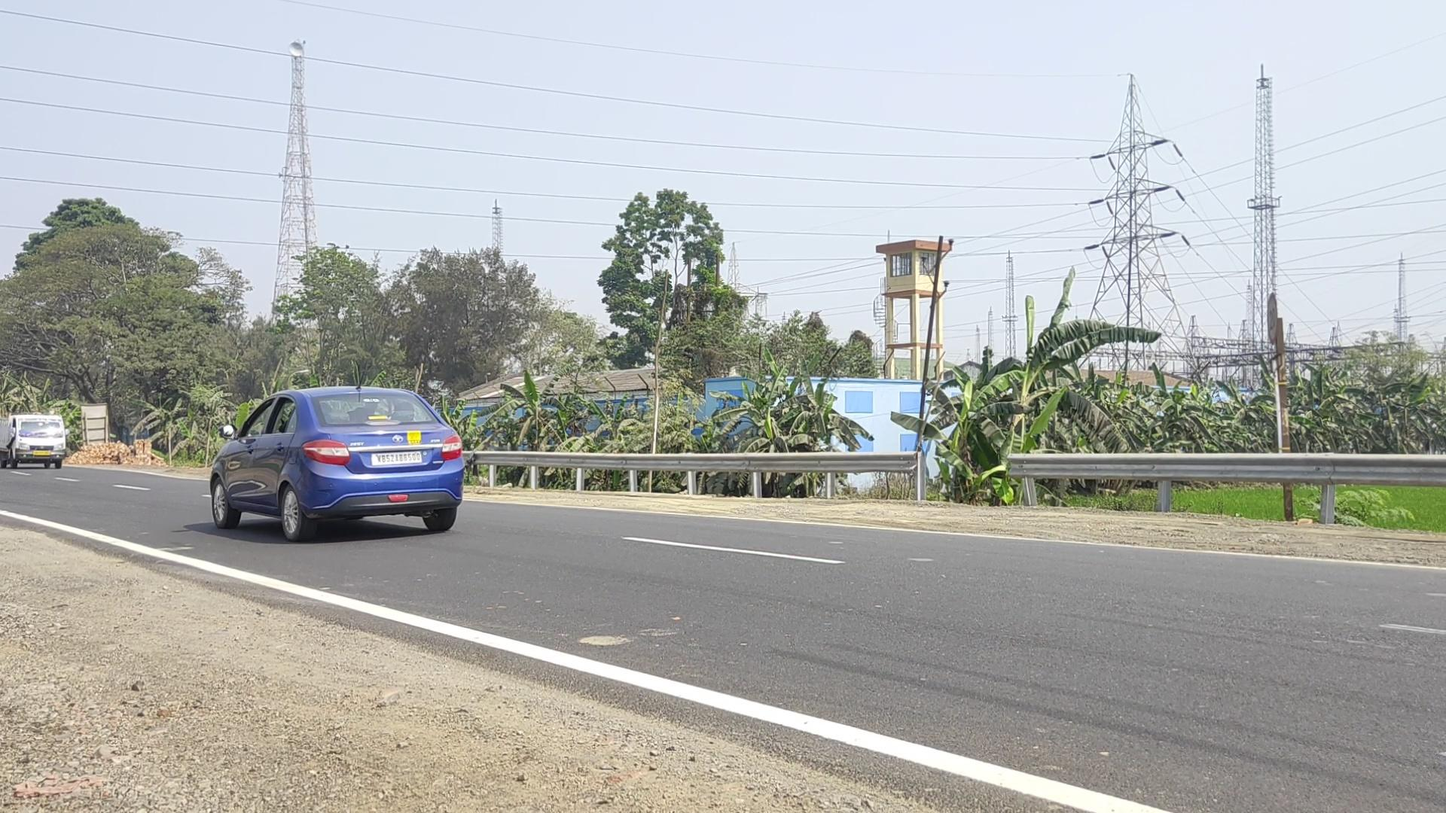car: (209, 385, 464, 543)
van: (1, 411, 69, 470)
